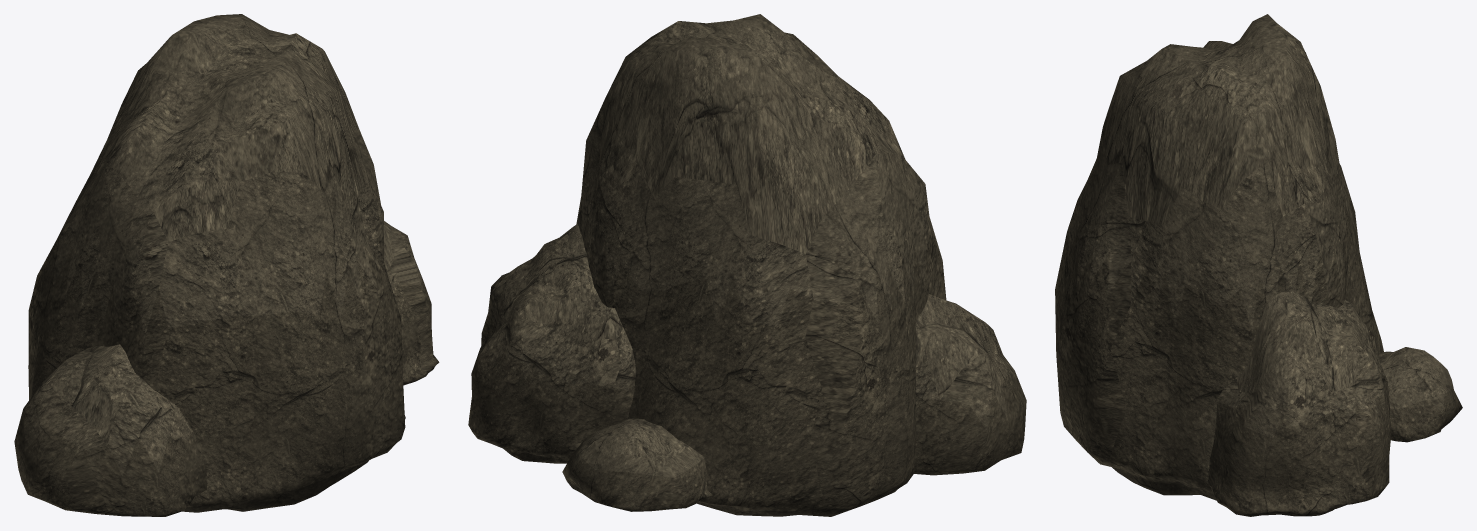
Rendered from rock_large_02_real.gltf.
3 renders of one model, left to right at view 1: azimuth 30°, elevation 25°; view 2: azimuth 150°, elevation 25°; view 3: azimuth 270°, elevation 25°, orthographic. The views are drawn at different scales.
Visible parts, largest first — view 1: rock_large_02; view 2: rock_large_02; view 3: rock_large_02.
Boxes of the visible parts, box(x1,y1,x2,y2) form: rock_large_02: box(14, 14, 439, 516); rock_large_02: box(468, 14, 1026, 516); rock_large_02: box(1055, 14, 1462, 516).
Bounding box in the file's own units: 2.53 × 2.35 × 1.98.
Materials: 3 (3 with a texture image).
